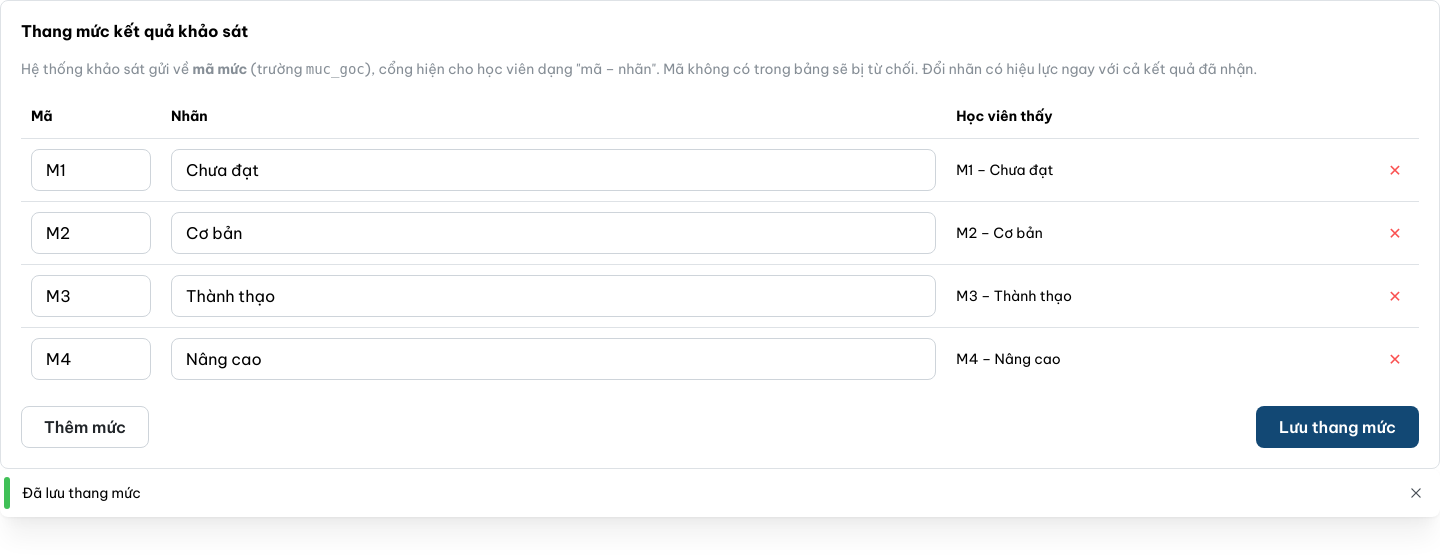
Admin — Thang mức kết quả khảo sát › xóa 1 mức rồi lưu; API lỗi -> hiện thông báo
The width and height of the screenshot is (1440, 555).
Step 1. Click the button named "Xóa mức dòng 4" → (1395,359), box [1381, 345, 1409, 373]
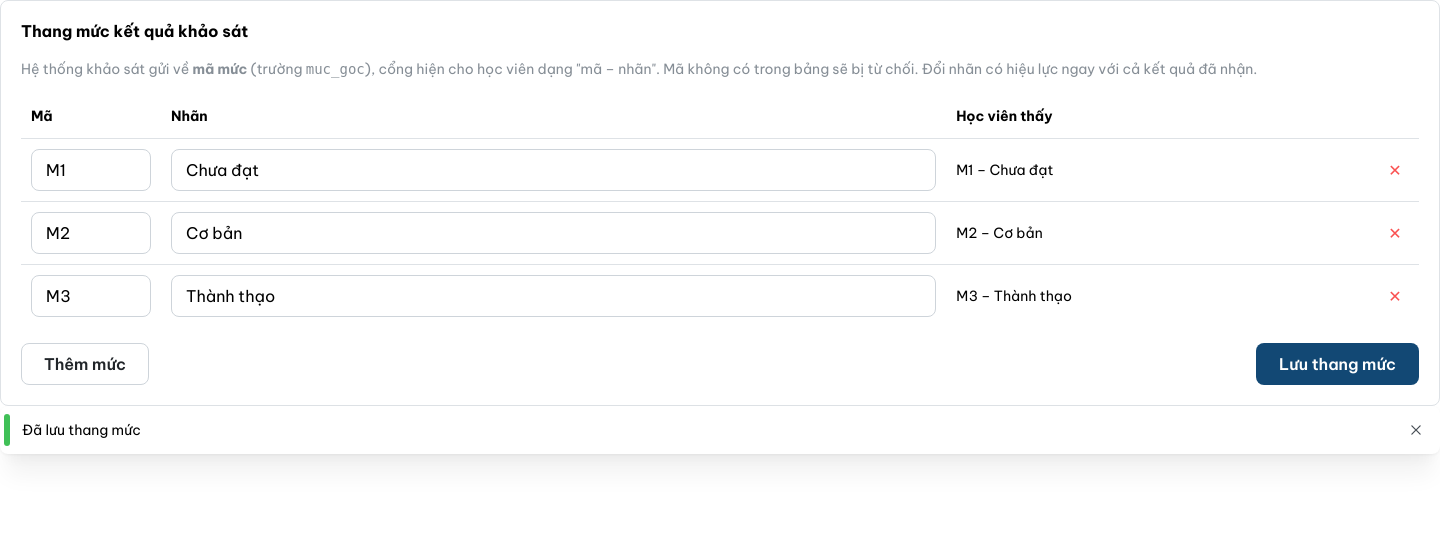
Expected: the text showing "Nâng cao" is gone
Step 2. Click the button "Lưu thang mức" → (1338,364), box [1256, 343, 1419, 385]
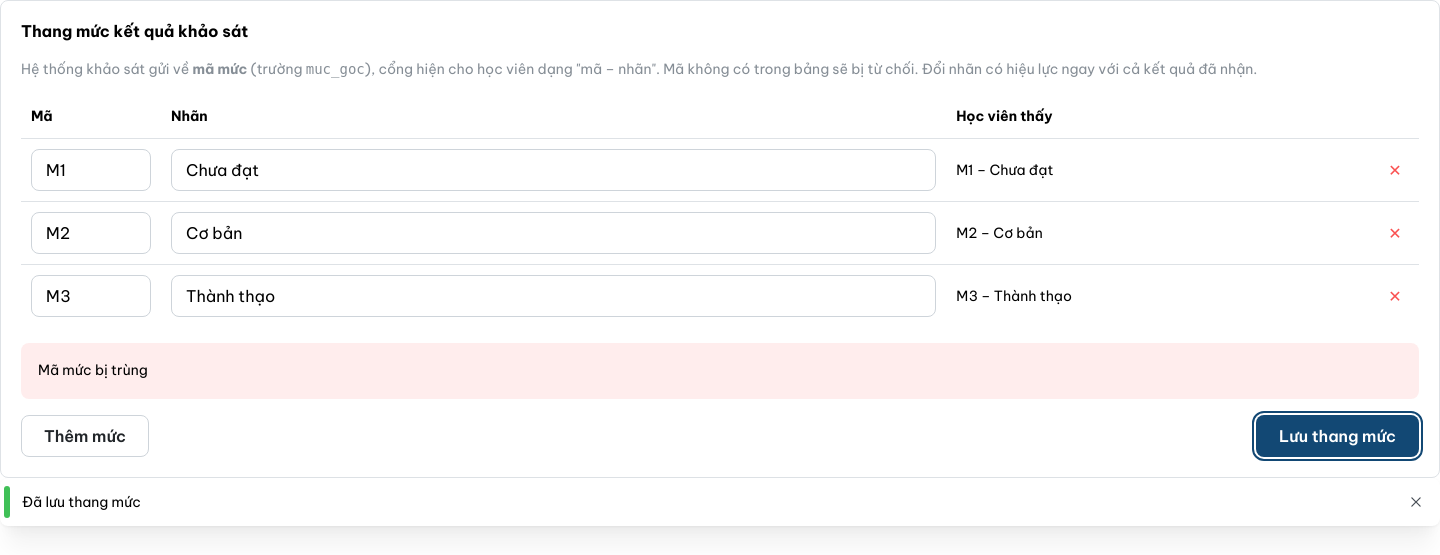
Expected: the text "Mã mức bị trùng" is shown, [38, 361, 148, 379]
